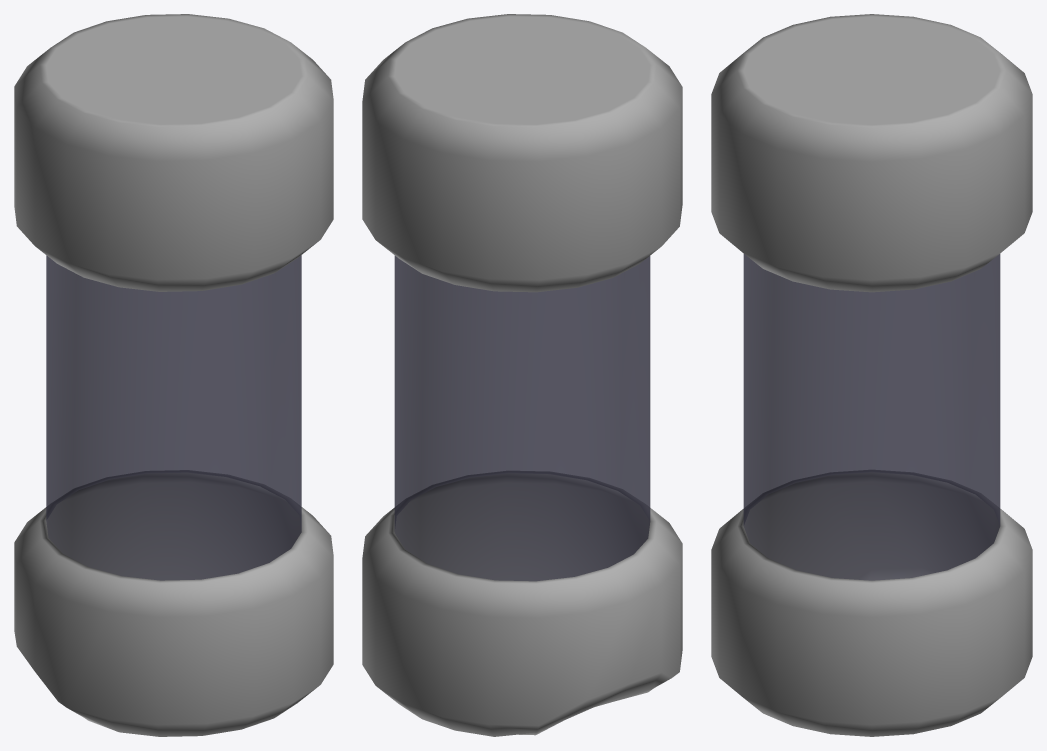
The model's file is Environment_Barrel_0022_Mesh.fbx.
3 renders of one model, left to right at view 1: azimuth 30°, elevation 25°; view 2: azimuth 150°, elevation 25°; view 3: azimuth 270°, elevation 25°, orthographic.
Visible parts, largest first — view 1: barrel_2_2; view 2: barrel_2_2; view 3: barrel_2_2.
Part boxes in pixels (x1,y1,x2,y2): barrel_2_2: [14, 14, 333, 736]; barrel_2_2: [362, 14, 682, 736]; barrel_2_2: [711, 14, 1032, 736].
Size of the model in its own units: 111 by 232 by 111.
